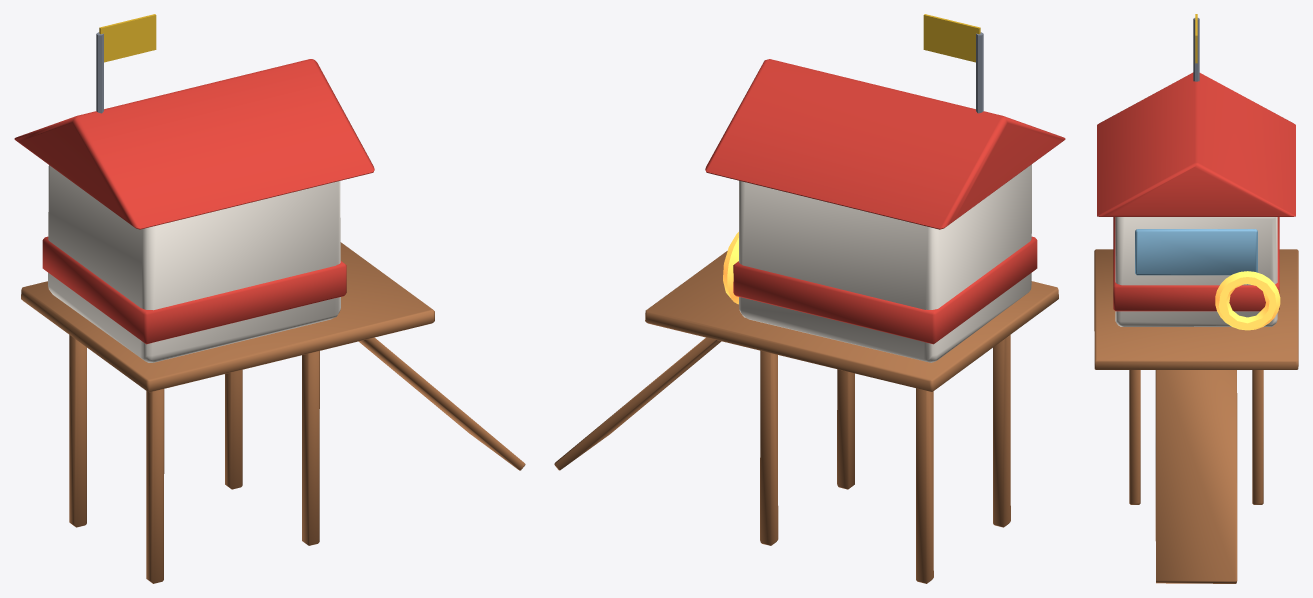
File: lifeguard_tower.glb
3 renders of one model, left to right at view 1: azimuth 30°, elevation 25°; view 2: azimuth 150°, elevation 25°; view 3: azimuth 270°, elevation 25°, orthographic. The views are drawn at different scales.
Parts seen in each view (by area): view 1: lifeguard_tower; view 2: lifeguard_tower; view 3: lifeguard_tower.
Part boxes in pixels (<box>): lifeguard_tower: <box>14,14,525,583</box>; lifeguard_tower: <box>554,14,1065,583</box>; lifeguard_tower: <box>1094,14,1298,583</box>.
Bounding box in the file's own units: 3.86 × 4.54 × 2.
1 material, 1 textured.
